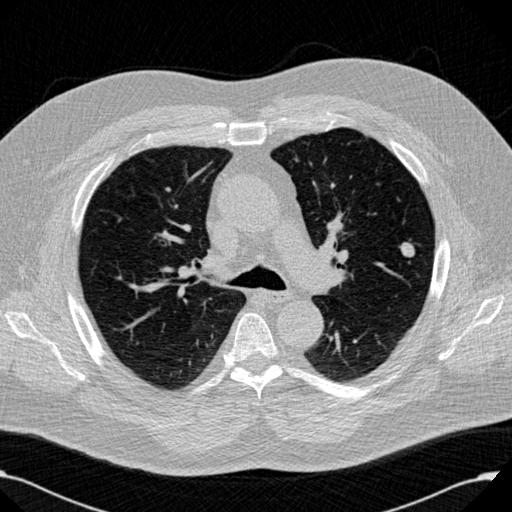nodule: (396, 238, 418, 260)
